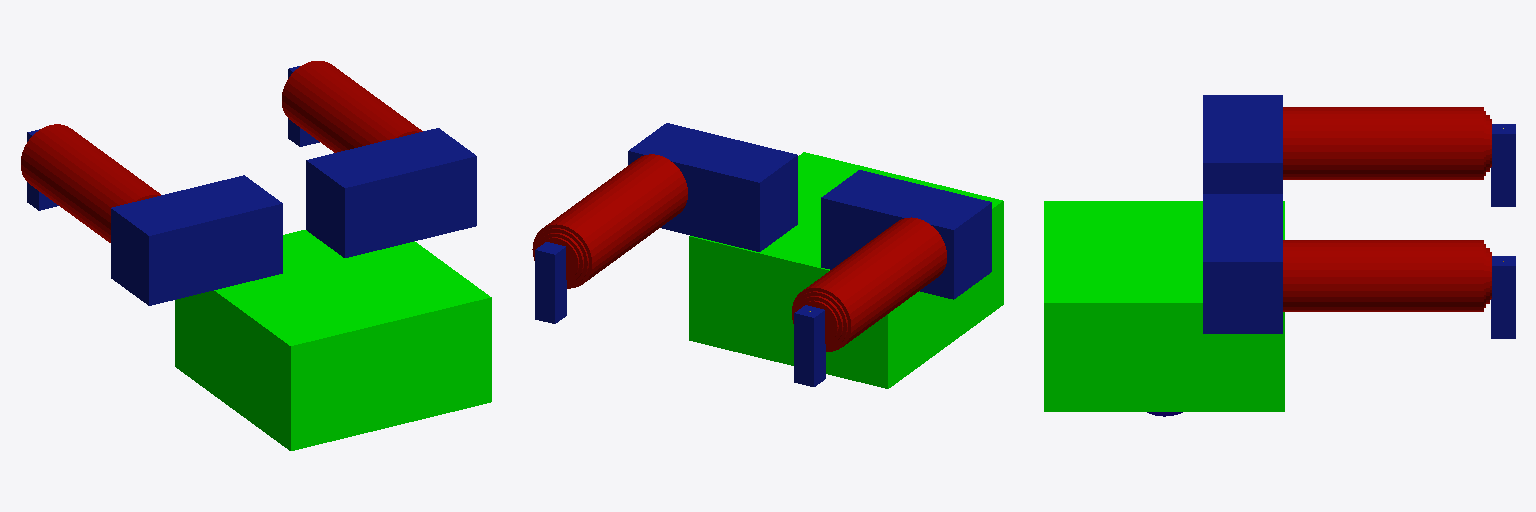
robot.urdf — robot:
<robot name="robot">
  <link name="base_link">
    <visual>
      <origin xyz="0 0 0.1291011279735872" rpy="0 0 0" />
      <geometry>
        <box size="0.3 0.3 0.15" />
      </geometry>
      <material name="base_link-material">
        <color rgba="0.006048833020386069 0.9473065367320066 0.0069954101845983935 1" />
      </material>
    </visual>
    <collision>
      <origin xyz="0 0 0.1291011279735872" rpy="0 0 0" />
      <geometry>
        <box size="0.3 0.3 0.15" />
      </geometry>
    </collision>
    <inertial>
      <origin xyz="0 0 0.1291011279735872" rpy="0 0 0" />
      <mass value="1" />
      <inertia ixx="0.16666666666666666" ixy="0" ixz="0" iyy="0.16666666666666666" iyz="0" izz="0.16666666666666666" />
    </inertial>
  </link>
  <link name="cylinder1">
    <visual>
      <origin xyz="0 0 0" rpy="0 0 0" />
      <geometry>
        <cylinder radius="0.05" length="0.1" />
      </geometry>
      <material name="cylinder1-material">
        <color rgba="0.10461648408208657 0.015996293361446288 0.514917665367466 1" />
      </material>
    </visual>
    <collision>
      <origin xyz="0 0 0" rpy="0 0 0" />
      <geometry>
        <cylinder radius="0.05" length="0.1" />
      </geometry>
    </collision>
    <inertial>
      <origin xyz="0 0 0" rpy="0 0 0" />
      <mass value="1" />
      <inertia ixx="0.3333333333333333" ixy="0" ixz="0" iyy="0.5" iyz="0" izz="0.3333333333333333" />
    </inertial>
  </link>
  <joint name="base_link_to_cylinder1" type="fixed">
    <parent link="base_link" />
    <child link="cylinder1" />
    <origin xyz="0 0 0.05122113929521599" rpy="1.5707963267948966 2.220446049250313e-16 1.5707963267948963" />
  </joint>
  <link name="cube3">
    <visual>
      <origin xyz="0 0 0" rpy="0 0 0" />
      <geometry>
        <box size="0.1 0.1 0.1" />
      </geometry>
      <material name="cube3-material">
        <color rgba="0.08865558627723595 0.13563332964548108 0.5647115056965487 1" />
      </material>
    </visual>
    <collision>
      <origin xyz="0 0 0" rpy="0 0 0" />
      <geometry>
        <box size="0.1 0.1 0.1" />
      </geometry>
    </collision>
    <inertial>
      <origin xyz="0 0 0" rpy="0 0 0" />
      <mass value="1" />
      <inertia ixx="0.16666666666666666" ixy="0" ixz="0" iyy="0.16666666666666666" iyz="0" izz="0.16666666666666666" />
    </inertial>
  </link>
  <joint name="base_link_to_cube3" type="revolute">
    <parent link="base_link" />
    <child link="cube3" />
    <origin xyz="0.09490880780581268 0.09748329533451194 0.25430133179925585" rpy="0 0 0" />
    <axis xyz="0 0 1"/>
    <limit effort="1000.0" lower="-1" upper="1" velocity="0.5"/>  </joint>
  <link name="cube3-copy3">
    <visual>
      <origin xyz="0 0 0" rpy="0 0 0" />
      <geometry>
        <box size="0.1 0.1 0.1" />
      </geometry>
      <material name="cube3-copy3-material">
        <color rgba="0.08865558627723595 0.13563332964548108 0.5647115056965487 1" />
      </material>
    </visual>
    <collision>
      <origin xyz="0 0 0" rpy="0 0 0" />
      <geometry>
        <box size="0.1 0.1 0.1" />
      </geometry>
    </collision>
    <inertial>
      <origin xyz="0 0 0" rpy="0 0 0" />
      <mass value="1" />
      <inertia ixx="0.16666666666666666" ixy="0" ixz="0" iyy="0.16666666666666666" iyz="0" izz="0.16666666666666666" />
    </inertial>
  </link>
  <joint name="cube3_to_cube3-copy3" type="revolute">
    <parent link="cube3" />
    <child link="cube3-copy3" />
    <origin xyz="0.0977326868794024 0 0" rpy="0 1.5707963267948966 0" />
    <axis xyz="0 0 1"/>
    <limit effort="1000.0" lower="-1" upper="1" velocity="0.5"/>  </joint>
  <link name="cylinder3-copy5">
    <visual>
      <origin xyz="2.7755575615628914e-17 -3.903127820947816e-17 -1.3877787807814457e-17" rpy="0 0 0" />
      <geometry>
        <cylinder radius="0.045" length="0.25" />
      </geometry>
      <material name="cylinder3-copy5-material">
        <color rgba="0.6583748172725346 0.036889450395083165 0.012983032338510335 1" />
      </material>
    </visual>
    <collision>
      <origin xyz="2.7755575615628914e-17 -3.903127820947816e-17 -1.3877787807814457e-17" rpy="0 0 0" />
      <geometry>
        <cylinder radius="0.045" length="0.25" />
      </geometry>
    </collision>
    <inertial>
      <origin xyz="2.7755575615628914e-17 -3.903127820947816e-17 -1.3877787807814457e-17" rpy="0 0 0" />
      <mass value="1" />
      <inertia ixx="0.3333333333333333" ixy="0" ixz="0" iyy="0.5" iyz="0" izz="0.3333333333333333" />
    </inertial>
  </link>
  <joint name="cube3-copy3_to_cylinder3-copy5" type="fixed">
    <parent link="cube3-copy3" />
    <child link="cylinder3-copy5" />
    <origin xyz="-0.009420597854085 0.17490331386129884 0.004821036014162006" rpy="-2.356194490192345 1.5707963267948966 -0.7853981633974483" />
  </joint>
  <link name="cylinder3">
    <visual>
      <origin xyz="2.7755575615628914e-17 -3.903127820947816e-17 -1.3877787807814457e-17" rpy="0 0 0" />
      <geometry>
        <cylinder radius="0.04" length="0.25" />
      </geometry>
      <material name="cylinder3-material">
        <color rgba="0.6583748172725346 0.036889450395083165 0.012983032338510335 1" />
      </material>
    </visual>
    <collision>
      <origin xyz="2.7755575615628914e-17 -3.903127820947816e-17 -1.3877787807814457e-17" rpy="0 0 0" />
      <geometry>
        <cylinder radius="0.04" length="0.25" />
      </geometry>
    </collision>
    <inertial>
      <origin xyz="2.7755575615628914e-17 -3.903127820947816e-17 -1.3877787807814457e-17" rpy="0 0 0" />
      <mass value="1" />
      <inertia ixx="0.3333333333333333" ixy="0" ixz="0" iyy="0.5" iyz="0" izz="0.3333333333333333" />
    </inertial>
  </link>
  <joint name="cylinder3-copy5_to_cylinder3" type="prismatic">
    <parent link="cylinder3-copy5" />
    <child link="cylinder3" />
    <origin xyz="2.7028641463453882e-17 -4.336808689942018e-19 0.0032738203768583746" rpy="0 0 0" />
    <axis xyz="0 0 1"/>
    <limit effort="1000.0" lower="0" upper="0.2" velocity="0.5"/>  </joint>
  <link name="cylinder3-copy0">
    <visual>
      <origin xyz="0 0 0" rpy="0 0 0" />
      <geometry>
        <cylinder radius="0.035" length="0.25" />
      </geometry>
      <material name="cylinder3-copy0-material">
        <color rgba="0.6583748172725346 0.036889450395083165 0.012983032338510335 1" />
      </material>
    </visual>
    <collision>
      <origin xyz="0 0 0" rpy="0 0 0" />
      <geometry>
        <cylinder radius="0.035" length="0.25" />
      </geometry>
    </collision>
    <inertial>
      <origin xyz="0 0 0" rpy="0 0 0" />
      <mass value="1" />
      <inertia ixx="0.3333333333333333" ixy="0" ixz="0" iyy="0.5" iyz="0" izz="0.3333333333333333" />
    </inertial>
  </link>
  <joint name="cylinder3_to_cylinder3-copy0" type="prismatic">
    <parent link="cylinder3" />
    <child link="cylinder3-copy0" />
    <origin xyz="5.388818844109483e-17 -6.808789643208968e-17 0.004016047725078617" rpy="0 0 0" />
    <axis xyz="0 0 1"/>
    <limit effort="1000.0" lower="0" upper="0.2" velocity="0.5"/>  
    <mimic joint="cylinder3-copy5_to_cylinder3" multiplier="1.0" offset="0.0"/>
  </joint>
  <link name="cylinder3-copy1">
    <visual>
      <origin xyz="0 0 0" rpy="0 0 0" />
      <geometry>
        <cylinder radius="0.03" length="0.25" />
      </geometry>
      <material name="cylinder3-copy1-material">
        <color rgba="0.6583748172725346 0.036889450395083165 0.012983032338510335 1" />
      </material>
    </visual>
    <collision>
      <origin xyz="0 0 0" rpy="0 0 0" />
      <geometry>
        <cylinder radius="0.03" length="0.25" />
      </geometry>
    </collision>
    <inertial>
      <origin xyz="0 0 0" rpy="0 0 0" />
      <mass value="1" />
      <inertia ixx="0.3333333333333333" ixy="0" ixz="0" iyy="0.5" iyz="0" izz="0.3333333333333333" />
    </inertial>
  </link>
  <joint name="cylinder3-copy0_to_cylinder3-copy1" type="prismatic">
    <parent link="cylinder3-copy0" />
    <child link="cylinder3-copy1" />
    <origin xyz="-9.301005920151903e-19 -1.235990476633475e-17 0.003018064157115752" rpy="0 0 0" />
    <axis xyz="0 0 1"/>
    <limit effort="1000.0" lower="0" upper="0.2" velocity="0.5"/>    
    <mimic joint="cylinder3-copy5_to_cylinder3" multiplier="1.0" offset="0.0"/>
  </joint>
  <link name="cube3-copy2">
    <visual>
      <origin xyz="0 0 0" rpy="0 0 0" />
      <geometry>
        <box size="0.03 0.03 0.1" />
      </geometry>
      <material name="cube3-copy2-material">
        <color rgba="0.08865558627723595 0.13563332964548108 0.5647115056965487 1" />
      </material>
    </visual>
    <collision>
      <origin xyz="0 0 0" rpy="0 0 0" />
      <geometry>
        <box size="0.03 0.03 0.1" />
      </geometry>
    </collision>
    <inertial>
      <origin xyz="0 0 0" rpy="0 0 0" />
      <mass value="1" />
      <inertia ixx="0.16666666666666666" ixy="0" ixz="0" iyy="0.16666666666666666" iyz="0" izz="0.16666666666666666" />
    </inertial>
  </link>
  <joint name="cylinder3-copy1_to_cube3-copy2" type="fixed">
    <parent link="cylinder3-copy1" />
    <child link="cube3-copy2" />
    <origin xyz="-0.0031223829591222113 -0.028689304082221243 0.13915032059303187" rpy="-1.5707963267948963 0 0" />
  </joint>
  <link name="cube3-copy0">
    <visual>
      <origin xyz="0 0 0" rpy="0 0 0" />
      <geometry>
        <box size="0.1 0.1 0.1" />
      </geometry>
      <material name="cube3-copy0-material">
        <color rgba="0.08865558627723595 0.13563332964548108 0.5647115056965487 1" />
      </material>
    </visual>
    <collision>
      <origin xyz="0 0 0" rpy="0 0 0" />
      <geometry>
        <box size="0.1 0.1 0.1" />
      </geometry>
    </collision>
    <inertial>
      <origin xyz="0 0 0" rpy="0 0 0" />
      <mass value="1" />
      <inertia ixx="0.16666666666666666" ixy="0" ixz="0" iyy="0.16666666666666666" iyz="0" izz="0.16666666666666666" />
    </inertial>
  </link>
  <joint name="base_link_to_cube3-copy0" type="revolute">
    <parent link="base_link" />
    <child link="cube3-copy0" />
    <origin xyz="-0.09726916492783255 0.09748329533451194 0.25430133179925585" rpy="0 0 0" />
    <axis xyz="0 0 1"/>
    <limit effort="1000.0" lower="-1" upper="1" velocity="0.5"/>  </joint>
  <link name="cube3-copy4">
    <visual>
      <origin xyz="0 0 0" rpy="0 0 0" />
      <geometry>
        <box size="0.1 0.1 0.1" />
      </geometry>
      <material name="cube3-copy4-material">
        <color rgba="0.08865558627723595 0.13563332964548108 0.5647115056965487 1" />
      </material>
    </visual>
    <collision>
      <origin xyz="0 0 0" rpy="0 0 0" />
      <geometry>
        <box size="0.1 0.1 0.1" />
      </geometry>
    </collision>
    <inertial>
      <origin xyz="0 0 0" rpy="0 0 0" />
      <mass value="1" />
      <inertia ixx="0.16666666666666666" ixy="0" ixz="0" iyy="0.16666666666666666" iyz="0" izz="0.16666666666666666" />
    </inertial>
  </link>
  <joint name="cube3-copy0_to_cube3-copy4" type="revolute">
    <parent link="cube3-copy0" />
    <child link="cube3-copy4" />
    <origin xyz="-0.09985074079374005 0 0" rpy="0 1.5707963267948966 0" />
    <axis xyz="0 0 1"/>
    <limit effort="1000.0" lower="-1" upper="1" velocity="0.5"/>  </joint>
  <link name="cylinder3-copy6">
    <visual>
      <origin xyz="2.7755575615628914e-17 -3.903127820947816e-17 -1.3877787807814457e-17" rpy="0 0 0" />
      <geometry>
        <cylinder radius="0.045" length="0.25" />
      </geometry>
      <material name="cylinder3-copy6-material">
        <color rgba="0.6583748172725346 0.036889450395083165 0.012983032338510335 1" />
      </material>
    </visual>
    <collision>
      <origin xyz="2.7755575615628914e-17 -3.903127820947816e-17 -1.3877787807814457e-17" rpy="0 0 0" />
      <geometry>
        <cylinder radius="0.045" length="0.25" />
      </geometry>
    </collision>
    <inertial>
      <origin xyz="2.7755575615628914e-17 -3.903127820947816e-17 -1.3877787807814457e-17" rpy="0 0 0" />
      <mass value="1" />
      <inertia ixx="0.3333333333333333" ixy="0" ixz="0" iyy="0.5" iyz="0" izz="0.3333333333333333" />
    </inertial>
  </link>
  <joint name="cube3-copy4_to_cylinder3-copy6" type="fixed">
    <parent link="cube3-copy4" />
    <child link="cylinder3-copy6" />
    <origin xyz="-0.009420597854085 0.17490331386129884 0.004821036014162006" rpy="-2.356194490192345 1.5707963267948966 -0.7853981633974483" />
  </joint>
  <link name="cylinder3-copy2">
    <visual>
      <origin xyz="2.7755575615628914e-17 -3.903127820947816e-17 -1.3877787807814457e-17" rpy="0 0 0" />
      <geometry>
        <cylinder radius="0.04" length="0.25" />
      </geometry>
      <material name="cylinder3-copy2-material">
        <color rgba="0.6583748172725346 0.036889450395083165 0.012983032338510335 1" />
      </material>
    </visual>
    <collision>
      <origin xyz="2.7755575615628914e-17 -3.903127820947816e-17 -1.3877787807814457e-17" rpy="0 0 0" />
      <geometry>
        <cylinder radius="0.04" length="0.25" />
      </geometry>
    </collision>
    <inertial>
      <origin xyz="2.7755575615628914e-17 -3.903127820947816e-17 -1.3877787807814457e-17" rpy="0 0 0" />
      <mass value="1" />
      <inertia ixx="0.3333333333333333" ixy="0" ixz="0" iyy="0.5" iyz="0" izz="0.3333333333333333" />
    </inertial>
  </link>
  <joint name="cylinder3-copy6_to_cylinder3-copy2" type="prismatic">
    <parent link="cylinder3-copy6" />
    <child link="cylinder3-copy2" />
    <origin xyz="2.7028641463453882e-17 -4.336808689942018e-19 0.0032738203768583746" rpy="0 0 0" />
    <axis xyz="0 0 1"/>
    <limit effort="1000.0" lower="0" upper="0.2" velocity="0.5"/>  </joint>
  <link name="cylinder3-copy3">
    <visual>
      <origin xyz="0 0 0" rpy="0 0 0" />
      <geometry>
        <cylinder radius="0.035" length="0.25" />
      </geometry>
      <material name="cylinder3-copy3-material">
        <color rgba="0.6583748172725346 0.036889450395083165 0.012983032338510335 1" />
      </material>
    </visual>
    <collision>
      <origin xyz="0 0 0" rpy="0 0 0" />
      <geometry>
        <cylinder radius="0.035" length="0.25" />
      </geometry>
    </collision>
    <inertial>
      <origin xyz="0 0 0" rpy="0 0 0" />
      <mass value="1" />
      <inertia ixx="0.3333333333333333" ixy="0" ixz="0" iyy="0.5" iyz="0" izz="0.3333333333333333" />
    </inertial>
  </link>
  <joint name="cylinder3-copy2_to_cylinder3-copy3" type="prismatic">
    <parent link="cylinder3-copy2" />
    <child link="cylinder3-copy3" />
    <origin xyz="5.388818844109483e-17 -6.808789643208968e-17 0.004016047725078617" rpy="0 0 0" />
    <axis xyz="0 0 1"/>
    <limit effort="1000.0" lower="0" upper="0.2" velocity="0.5"/> 
    <mimic joint="cylinder3-copy6_to_cylinder3-copy2" multiplier="1.0" offset="0.0"/>
  </joint>
  <link name="cylinder3-copy4">
    <visual>
      <origin xyz="0 0 0" rpy="0 0 0" />
      <geometry>
        <cylinder radius="0.03" length="0.25" />
      </geometry>
      <material name="cylinder3-copy4-material">
        <color rgba="0.6583748172725346 0.036889450395083165 0.012983032338510335 1" />
      </material>
    </visual>
    <collision>
      <origin xyz="0 0 0" rpy="0 0 0" />
      <geometry>
        <cylinder radius="0.03" length="0.25" />
      </geometry>
    </collision>
    <inertial>
      <origin xyz="0 0 0" rpy="0 0 0" />
      <mass value="1" />
      <inertia ixx="0.3333333333333333" ixy="0" ixz="0" iyy="0.5" iyz="0" izz="0.3333333333333333" />
    </inertial>
  </link>
  <joint name="cylinder3-copy3_to_cylinder3-copy4" type="prismatic">
    <parent link="cylinder3-copy3" />
    <child link="cylinder3-copy4" />
    <origin xyz="-9.301005920151903e-19 -1.235990476633475e-17 0.003018064157115752" rpy="0 0 0" />
    <axis xyz="0 0 1"/>
    <limit effort="1000.0" lower="0" upper="0.2" velocity="0.5"/>
    <mimic joint="cylinder3-copy6_to_cylinder3-copy2" multiplier="1.0" offset="0.0"/>
  </joint>
  <link name="cube3-copy5">
    <visual>
      <origin xyz="0 0 0" rpy="0 0 0" />
      <geometry>
        <box size="0.03 0.03 0.1" />
      </geometry>
      <material name="cube3-copy5-material">
        <color rgba="0.08865558627723595 0.13563332964548108 0.5647115056965487 1" />
      </material>
    </visual>
    <collision>
      <origin xyz="0 0 0" rpy="0 0 0" />
      <geometry>
        <box size="0.03 0.03 0.1" />
      </geometry>
    </collision>
    <inertial>
      <origin xyz="0 0 0" rpy="0 0 0" />
      <mass value="1" />
      <inertia ixx="0.16666666666666666" ixy="0" ixz="0" iyy="0.16666666666666666" iyz="0" izz="0.16666666666666666" />
    </inertial>
  </link>
  <joint name="cylinder3-copy4_to_cube3-copy5" type="fixed">
    <parent link="cylinder3-copy4" />
    <child link="cube3-copy5" />
    <origin xyz="-0.0031223829591222113 -0.028689304082221243 0.13915032059303187" rpy="-1.5707963267948963 0 0" />
  </joint>


  <!-- First end effector modifications -->
  <link name="ee1_roll">
    <visual>
      <origin xyz="0 0 0" rpy="0 0 0"/>
      <geometry>
        <cylinder radius="0.001" length="0.001"/>
      </geometry>
    </visual>
    <inertial>
      <mass value="0.001"/>
      <inertia ixx="0.001" ixy="0" ixz="0" iyy="0.001" iyz="0" izz="0.001"/>
    </inertial>
  </link>

  <joint name="ee1_roll_joint" type="revolute">
    <parent link="cube3-copy2"/>
    <child link="ee1_roll"/>
    <origin xyz="0 0 0.05" rpy="0 0 0"/>
    <axis xyz="1 0 0"/>
    <limit effort="1000.0" lower="-3.14159" upper="3.14159" velocity="0.5"/>
  </joint>

  <link name="ee1_pitch">
    <visual>
      <origin xyz="0 0 0" rpy="0 0 0"/>
      <geometry>
        <cylinder radius="0.001" length="0.001"/>
      </geometry>
    </visual>
    <inertial>
      <mass value="0.001"/>
      <inertia ixx="0.001" ixy="0" ixz="0" iyy="0.001" iyz="0" izz="0.001"/>
    </inertial>
  </link>

  <joint name="ee1_pitch_joint" type="revolute">
    <parent link="ee1_roll"/>
    <child link="ee1_pitch"/>
    <origin xyz="0 0 0" rpy="0 0 0"/>
    <axis xyz="0 1 0"/>
    <limit effort="1000.0" lower="-3.14159" upper="3.14159" velocity="0.5"/>
  </joint>

  <link name="ee1_yaw">
    <visual>
      <origin xyz="0 0 0" rpy="0 0 0"/>
      <geometry>
        <cylinder radius="0.001" length="0.001"/>
      </geometry>
    </visual>
    <inertial>
      <mass value="0.001"/>
      <inertia ixx="0.001" ixy="0" ixz="0" iyy="0.001" iyz="0" izz="0.001"/>
    </inertial>
  </link>

  <joint name="ee1_yaw_joint" type="revolute">
    <parent link="ee1_pitch"/>
    <child link="ee1_yaw"/>
    <origin xyz="0 0 0" rpy="0 0 0"/>
    <axis xyz="0 0 1"/>
    <limit effort="1000.0" lower="-3.14159" upper="3.14159" velocity="0.5"/>
  </joint>

  <!-- Second end effector modifications -->
  <link name="ee2_roll">
    <visual>
      <origin xyz="0 0 0" rpy="0 0 0"/>
      <geometry>
        <cylinder radius="0.001" length="0.001"/>
      </geometry>
    </visual>
    <inertial>
      <mass value="0.001"/>
      <inertia ixx="0.001" ixy="0" ixz="0" iyy="0.001" iyz="0" izz="0.001"/>
    </inertial>
  </link>

  <joint name="ee2_roll_joint" type="revolute">
    <parent link="cube3-copy5"/>
    <child link="ee2_roll"/>
    <origin xyz="0 0 0.05" rpy="0 0 0"/>
    <axis xyz="1 0 0"/>
    <limit effort="1000.0" lower="-3.14159" upper="3.14159" velocity="0.5"/>
  </joint>

  <link name="ee2_pitch">
    <visual>
      <origin xyz="0 0 0" rpy="0 0 0"/>
      <geometry>
        <cylinder radius="0.001" length="0.001"/>
      </geometry>
    </visual>
    <inertial>
      <mass value="0.001"/>
      <inertia ixx="0.001" ixy="0" ixz="0" iyy="0.001" iyz="0" izz="0.001"/>
    </inertial>
  </link>

  <joint name="ee2_pitch_joint" type="revolute">
    <parent link="ee2_roll"/>
    <child link="ee2_pitch"/>
    <origin xyz="0 0 0" rpy="0 0 0"/>
    <axis xyz="0 1 0"/>
    <limit effort="1000.0" lower="-3.14159" upper="3.14159" velocity="0.5"/>
  </joint>

  <link name="ee2_yaw">
    <visual>
      <origin xyz="0 0 0" rpy="0 0 0"/>
      <geometry>
        <cylinder radius="0.001" length="0.001"/>
      </geometry>
    </visual>
    <inertial>
      <mass value="0.001"/>
      <inertia ixx="0.001" ixy="0" ixz="0" iyy="0.001" iyz="0" izz="0.001"/>
    </inertial>
  </link>

  <joint name="ee2_yaw_joint" type="revolute">
    <parent link="ee2_pitch"/>
    <child link="ee2_yaw"/>
    <origin xyz="0 0 0" rpy="0 0 0"/>
    <axis xyz="0 0 1"/>
    <limit effort="1000.0" lower="-3.14159" upper="3.14159" velocity="0.5"/>
  </joint>
</robot>

--- What the picture shows (computed from the rendered views, not written in the file) ---
The picture shows the robot from 3 angles, left to right: view 1: azimuth 30°, elevation 25°; view 2: azimuth 150°, elevation 25°; view 3: azimuth 270°, elevation 25°; orthographic projection.
Model robot with 22 links and 21 joints (10 revolute, 6 prismatic, 5 fixed), rooted at base_link, posed all joints at 0.
Visible links, largest first — view 1: base_link, cube3-copy4, cube3, cylinder3-copy6, cylinder3-copy5, cube3-copy0, cube3-copy3; view 2: base_link, cube3, cylinder3-copy5, cylinder3-copy6, cube3-copy4, cube3-copy0, cube3-copy3, cube3-copy2, cube3-copy5; view 3: base_link, cylinder3-copy6, cylinder3-copy5, cube3-copy3, cube3-copy0, cube3, cube3-copy4, cube3-copy2, cube3-copy5.
Boxes of the visible links, x1=… form: base_link: x1=175, y1=230, x2=491, y2=450; cube3-copy4: x1=111, y1=192, x2=215, y2=305; cube3: x1=306, y1=144, x2=411, y2=257; cylinder3-copy6: x1=21, y1=124, x2=160, y2=242; cylinder3-copy5: x1=282, y1=61, x2=422, y2=152; cube3-copy0: x1=177, y1=175, x2=282, y2=289; cube3-copy3: x1=374, y1=128, x2=476, y2=241; base_link: x1=689, y1=152, x2=1003, y2=388; cube3: x1=693, y1=139, x2=797, y2=251; cylinder3-copy5: x1=532, y1=154, x2=687, y2=288; cylinder3-copy6: x1=792, y1=217, x2=946, y2=351; cube3-copy4: x1=888, y1=186, x2=991, y2=299; cube3-copy0: x1=821, y1=170, x2=924, y2=269; cube3-copy3: x1=628, y1=123, x2=731, y2=236; cube3-copy2: x1=535, y1=242, x2=566, y2=323; cube3-copy5: x1=794, y1=305, x2=825, y2=386; base_link: x1=1044, y1=201, x2=1284, y2=411; cylinder3-copy6: x1=1283, y1=107, x2=1483, y2=179; cylinder3-copy5: x1=1283, y1=240, x2=1483, y2=311; cube3-copy3: x1=1203, y1=228, x2=1282, y2=333; cube3-copy0: x1=1203, y1=129, x2=1282, y2=193; cube3: x1=1203, y1=194, x2=1282, y2=227; cube3-copy4: x1=1203, y1=95, x2=1282, y2=128; cube3-copy2: x1=1491, y1=256, x2=1515, y2=338; cube3-copy5: x1=1491, y1=124, x2=1515, y2=206.
Size in the robot's own frame: 0.4898 by 0.5868 by 0.3075 metres.
Geometry: primitives only (box / cylinder / sphere), no mesh files.